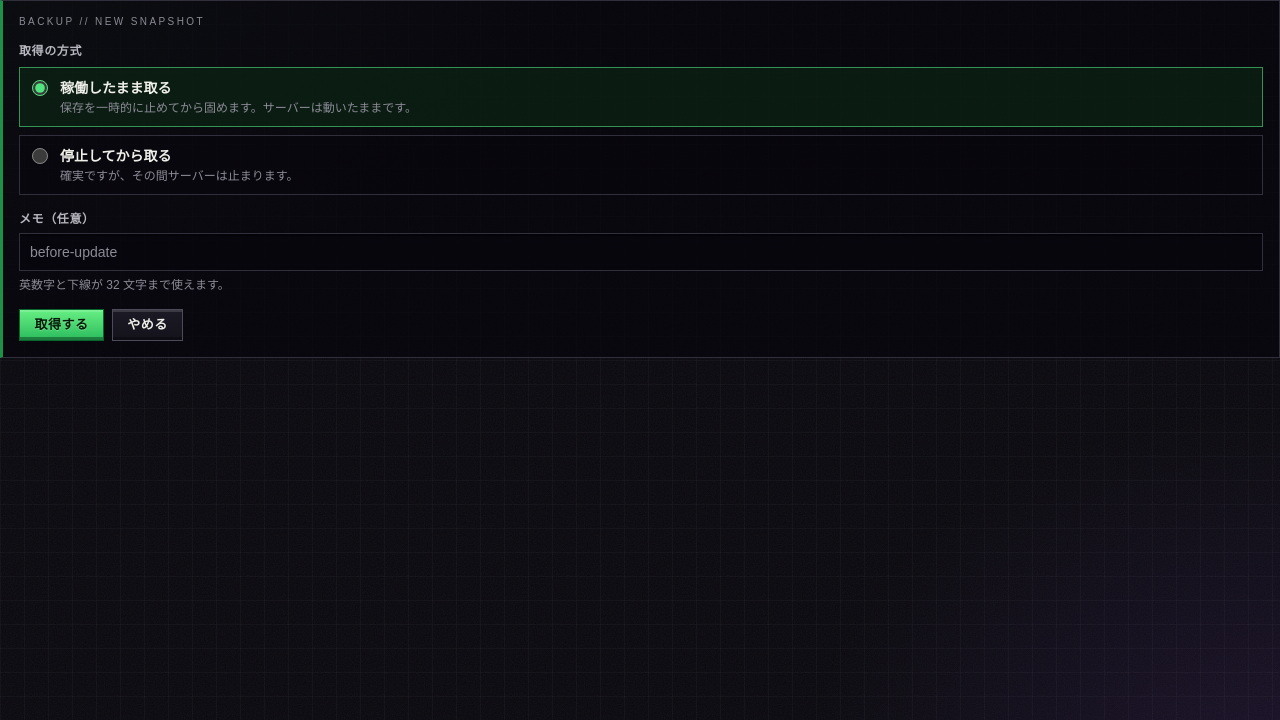
Test case: CreateBackupDialog › ファイル名に残る形を先に見せる
Type "before update" into the field labelled "メモ（任意）" at (641, 252), box [19,233,1263,271]
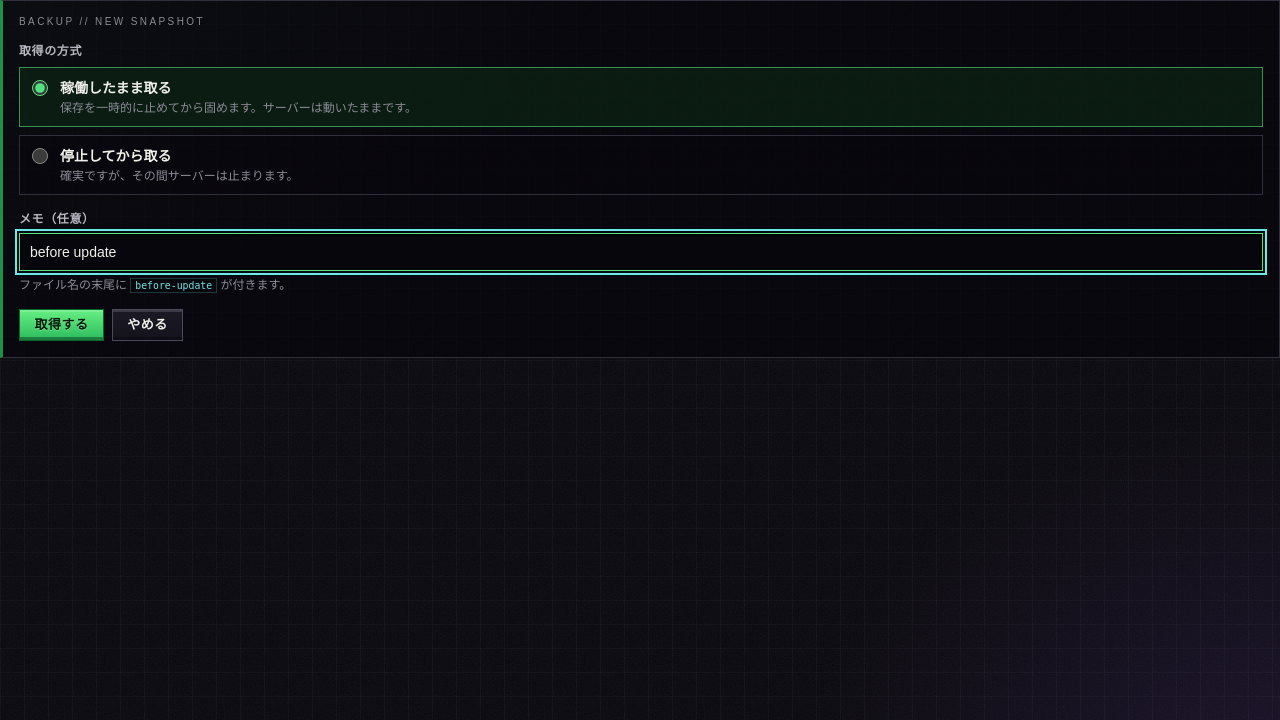
Result: the text "before-update" is shown at [130,278,217,293]
